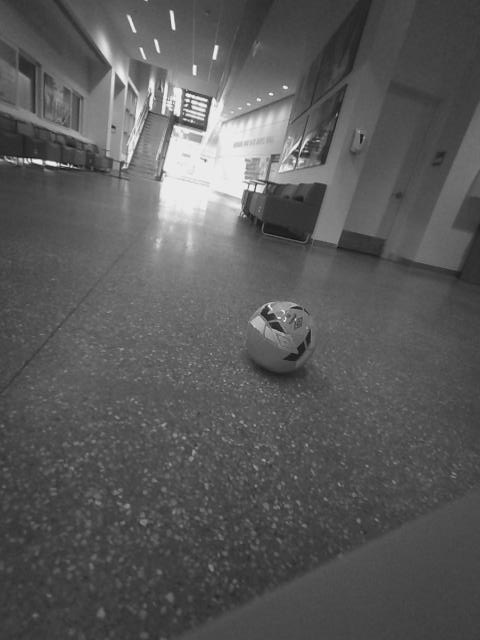ball: (333, 197, 364, 227)
